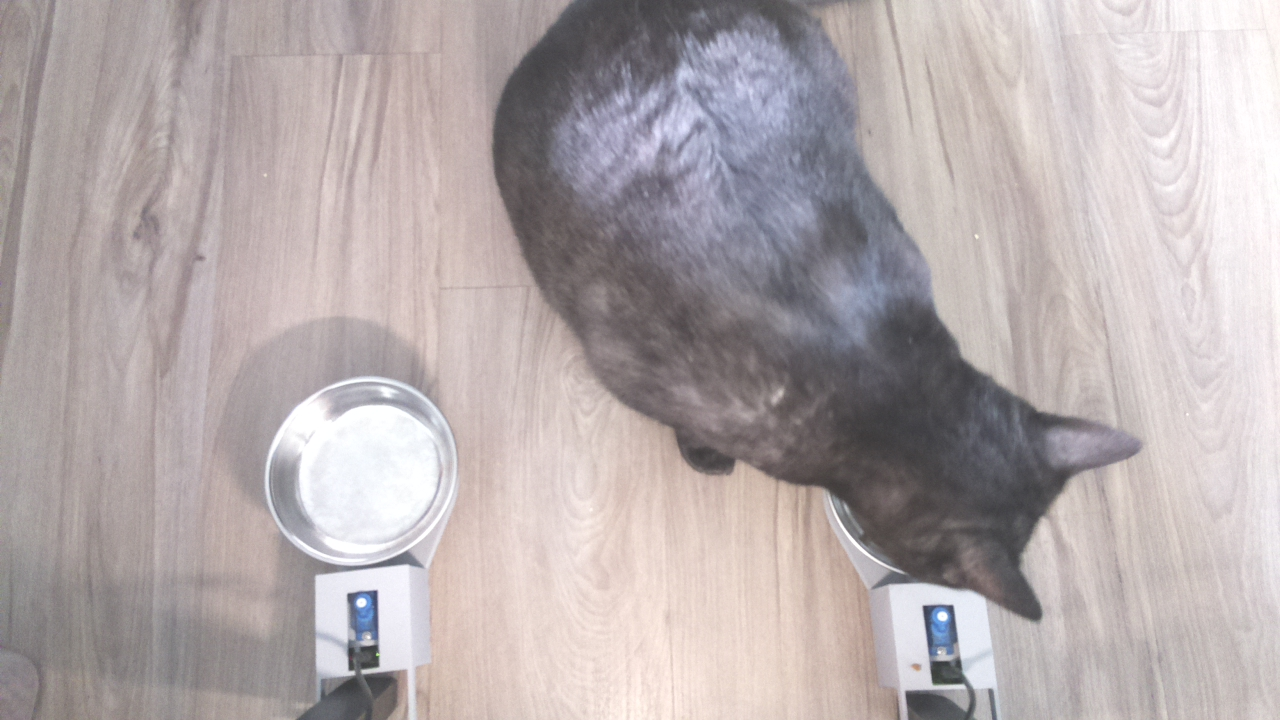open_bowl: (258, 375, 458, 573)
saki_eating: (814, 392, 1148, 630)
